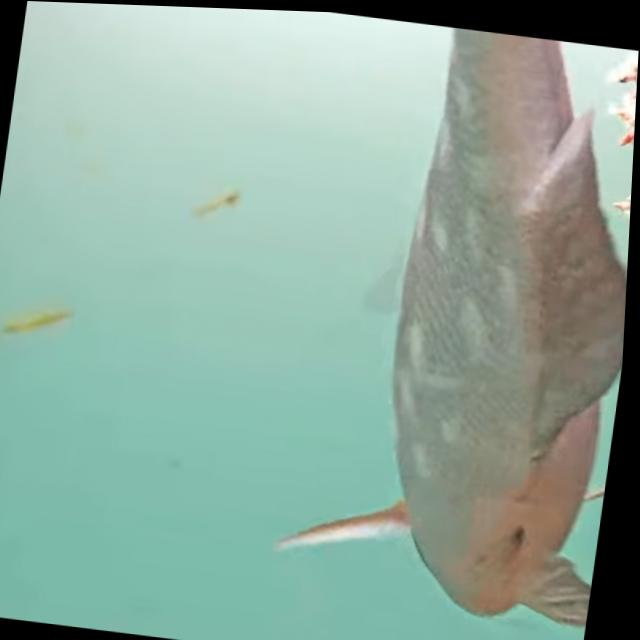fish: (267, 9, 640, 640)
